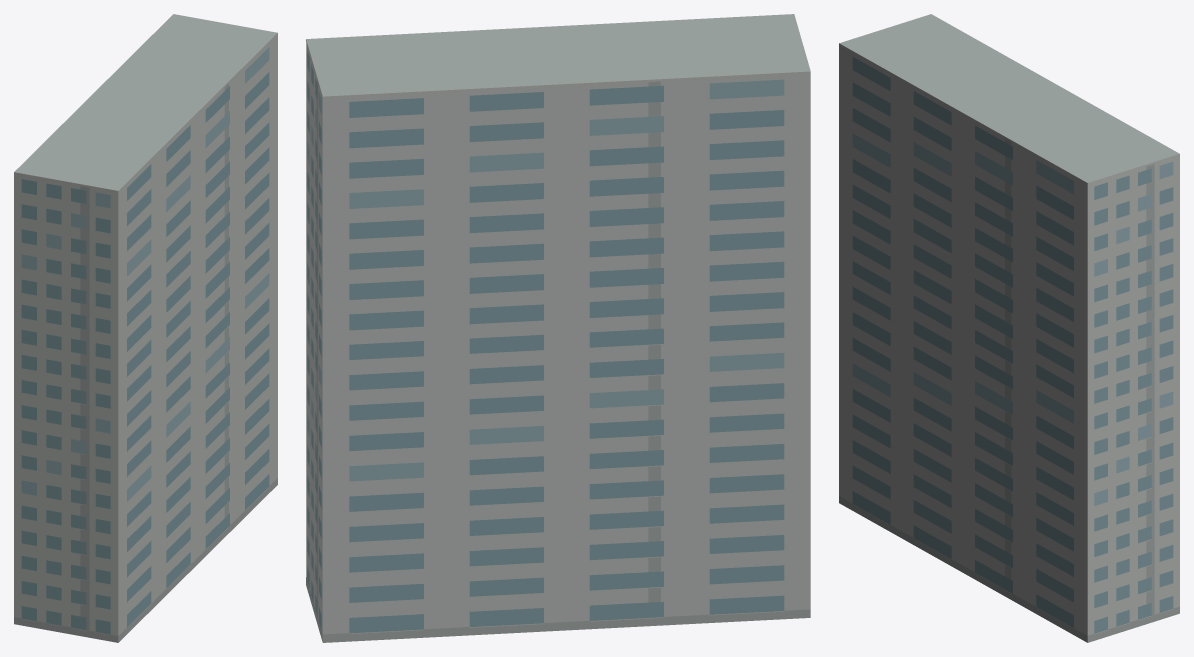
File: residential-6e9043d5-9b85-4ed2-a1f3-353485e67a81.glb
The picture shows the model from 3 angles, left to right: view 1: azimuth 30°, elevation 25°; view 2: azimuth 150°, elevation 25°; view 3: azimuth 270°, elevation 25°; orthographic projection. The views are drawn at different scales.
Parts seen in each view (by area): view 1: residential-6e9043d5-9b85-4ed2-a1f3-353485e67a81.tmp; view 2: residential-6e9043d5-9b85-4ed2-a1f3-353485e67a81.tmp; view 3: residential-6e9043d5-9b85-4ed2-a1f3-353485e67a81.tmp.
Boxes of the visible parts, box(x1,y1,x2,y2) form: residential-6e9043d5-9b85-4ed2-a1f3-353485e67a81.tmp: box(14, 14, 277, 642); residential-6e9043d5-9b85-4ed2-a1f3-353485e67a81.tmp: box(306, 14, 810, 642); residential-6e9043d5-9b85-4ed2-a1f3-353485e67a81.tmp: box(839, 14, 1179, 642).
Bounding box in the file's own units: 44.17 × 56 × 37.62.
